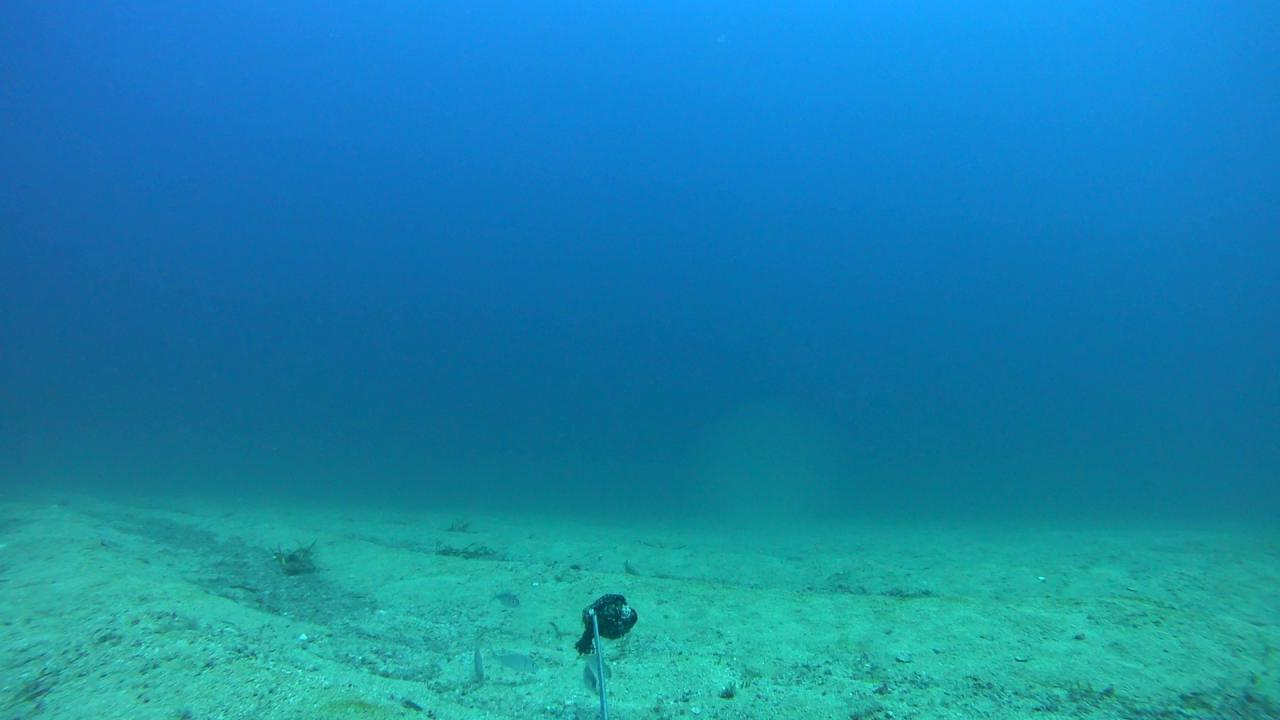pagellus: (487, 646, 538, 676), (488, 592, 525, 610)
